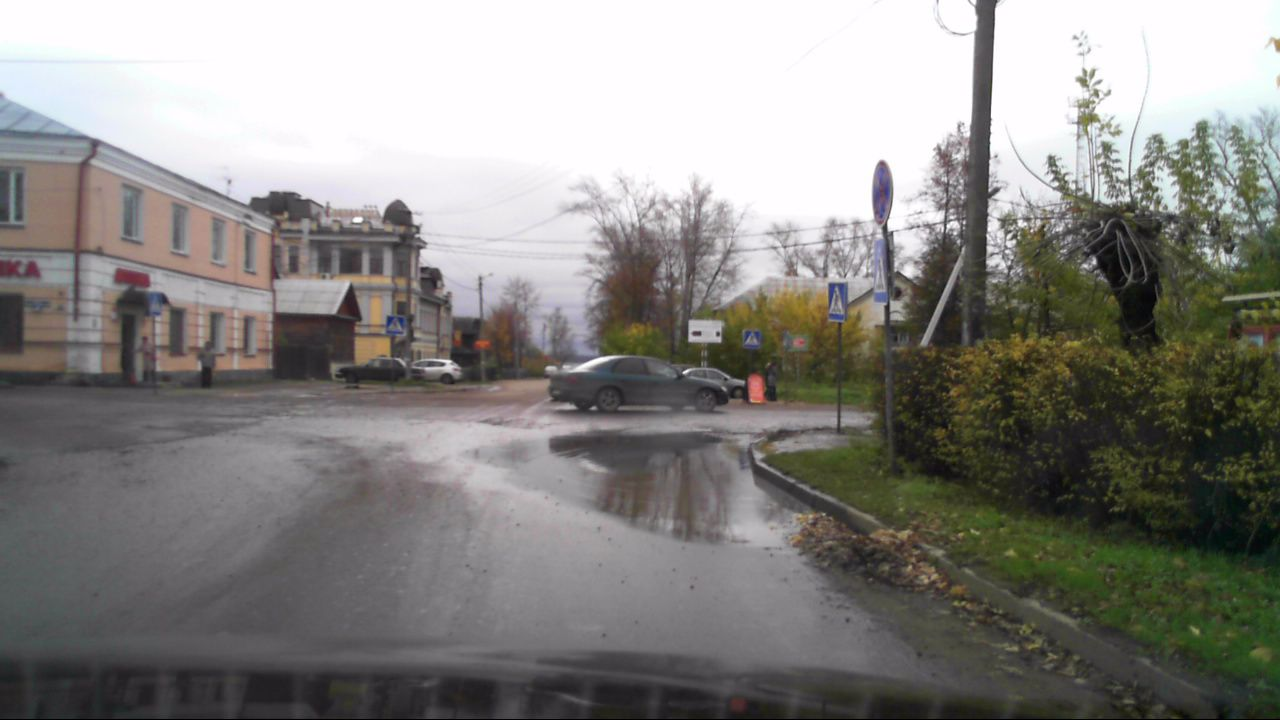No Parking: (872, 161, 891, 226)
